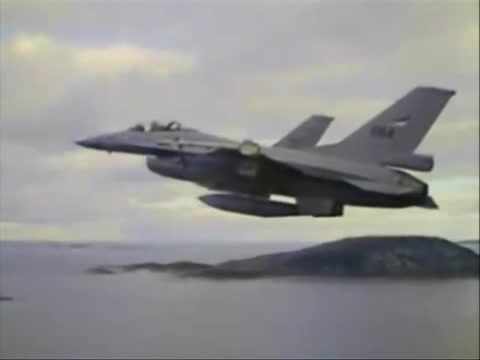aeroplane: (75, 86, 458, 220)
